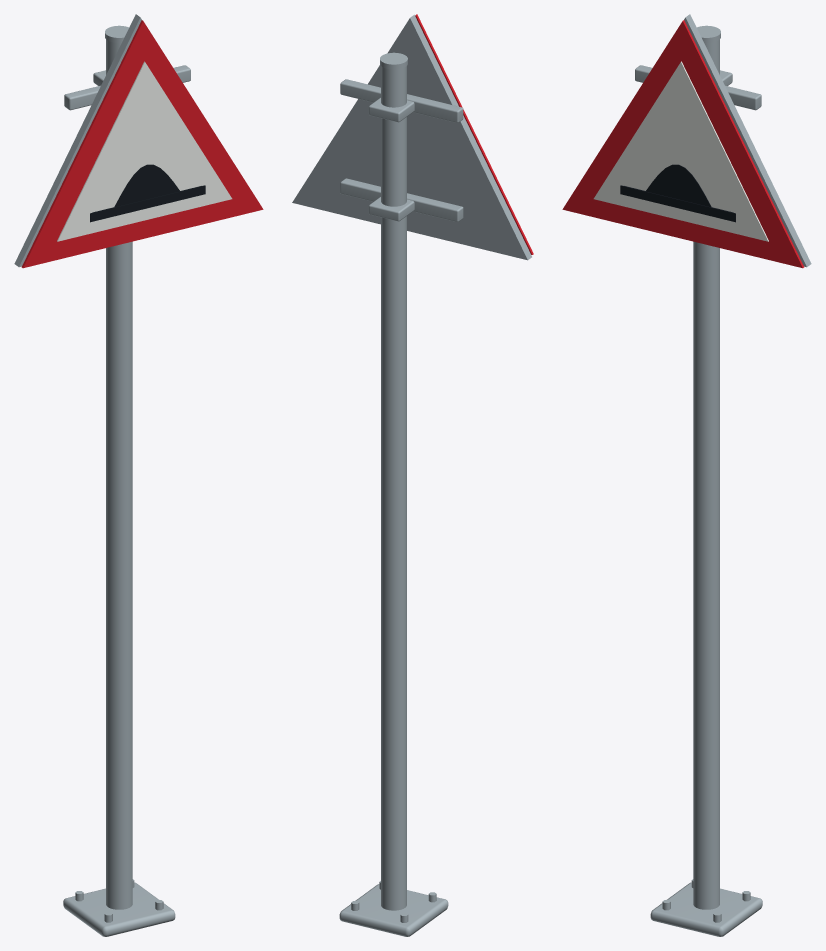
The model's file is DS_Sign_Bump.fbx.
3 views of the same model, side by side, from view 1: azimuth 30°, elevation 25°; view 2: azimuth 150°, elevation 25°; view 3: azimuth 330°, elevation 25° (orthographic). The views are drawn at different scales.
Parts seen in each view (by area): view 1: Post.025, Face_Border.018, Face_Field.018, BasePlate.025, Plate_Back.033, BumpShape, BumpRoad, RearRail.054; view 2: Post.025, Plate_Back.033, BasePlate.025, RearRail.053, RearRail.054, Face_Border.018, PostClamp.049, PostClamp.050; view 3: Post.025, Face_Border.018, Face_Field.018, BasePlate.025, Plate_Back.033, BumpShape, BumpRoad, RearRail.054.
Boxes of the visible parts, left/top/right/bottom form: Post.025: left=106, top=39, right=132, bottom=909; Face_Border.018: left=21, top=20, right=263, bottom=268; Face_Field.018: left=57, top=61, right=232, bottom=241; BasePlate.025: left=63, top=882, right=175, bottom=936; Plate_Back.033: left=14, top=14, right=141, bottom=267; BumpShape: left=92, top=164, right=201, bottom=212; BumpRoad: left=90, top=185, right=205, bottom=222; RearRail.054: left=64, top=65, right=190, bottom=110; Post.025: left=381, top=66, right=406, bottom=910; Plate_Back.033: left=292, top=14, right=531, bottom=260; BasePlate.025: left=339, top=884, right=448, bottom=936; RearRail.053: left=340, top=178, right=463, bottom=221; RearRail.054: left=340, top=79, right=463, bottom=122; Face_Border.018: left=415, top=14, right=533, bottom=254; PostClamp.049: left=368, top=196, right=414, bottom=221; PostClamp.050: left=368, top=97, right=414, bottom=122; Post.025: left=693, top=39, right=719, bottom=909; Face_Border.018: left=562, top=20, right=804, bottom=268; Face_Field.018: left=593, top=61, right=768, bottom=241; BasePlate.025: left=650, top=882, right=762, bottom=936; Plate_Back.033: left=684, top=14, right=811, bottom=267; BumpShape: left=624, top=164, right=733, bottom=212; BumpRoad: left=620, top=185, right=735, bottom=222; RearRail.054: left=635, top=65, right=761, bottom=110.
Bounding box in the file's own units: 79.67 × 286 × 28.2.
